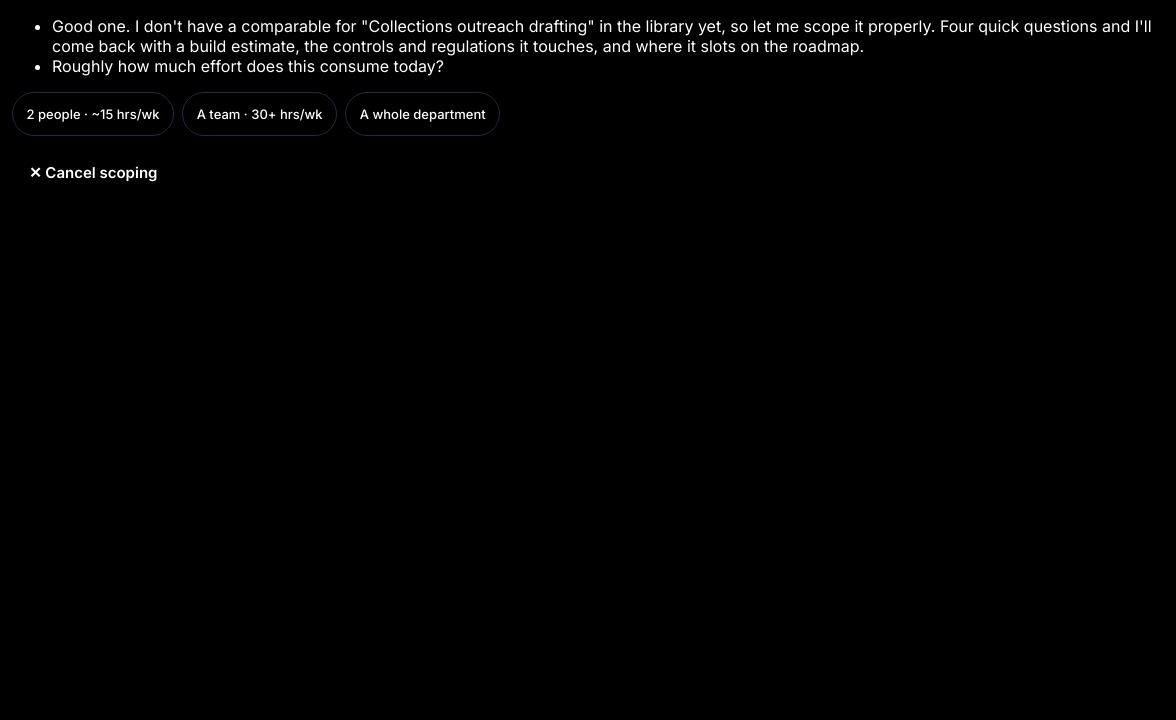
wizard full flow — 4 questions in base INTAKE order (base 4357-4368, 4434-4444) › review panel: Placement row (base 4394), display-name domains (base DOMMAP/domainsFor 4299-4300, never CTRLDOM slugs) — STU-02/STU-07
Step 1. Click the button "A whole department" → coordinates (423, 114), box [345,92,500,136]
Wait 700 ms
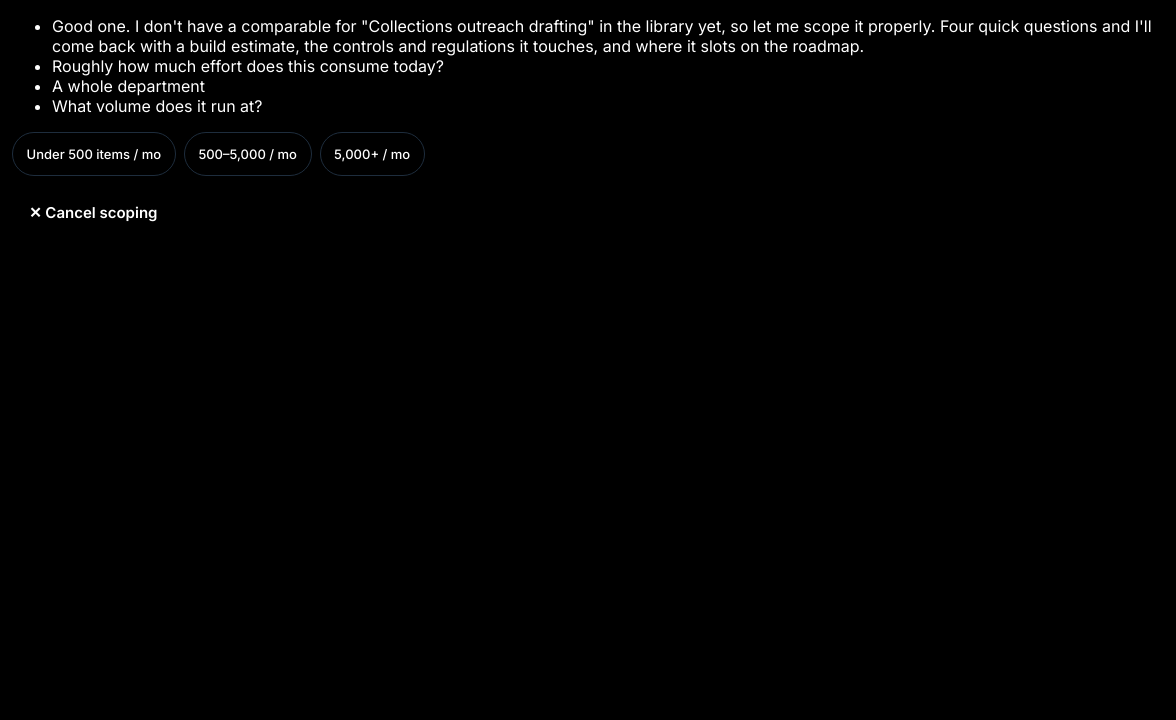
Step 2. Click the button "5,000+ / mo" → coordinates (372, 154), box [320,132,425,176]
Wait 700 ms
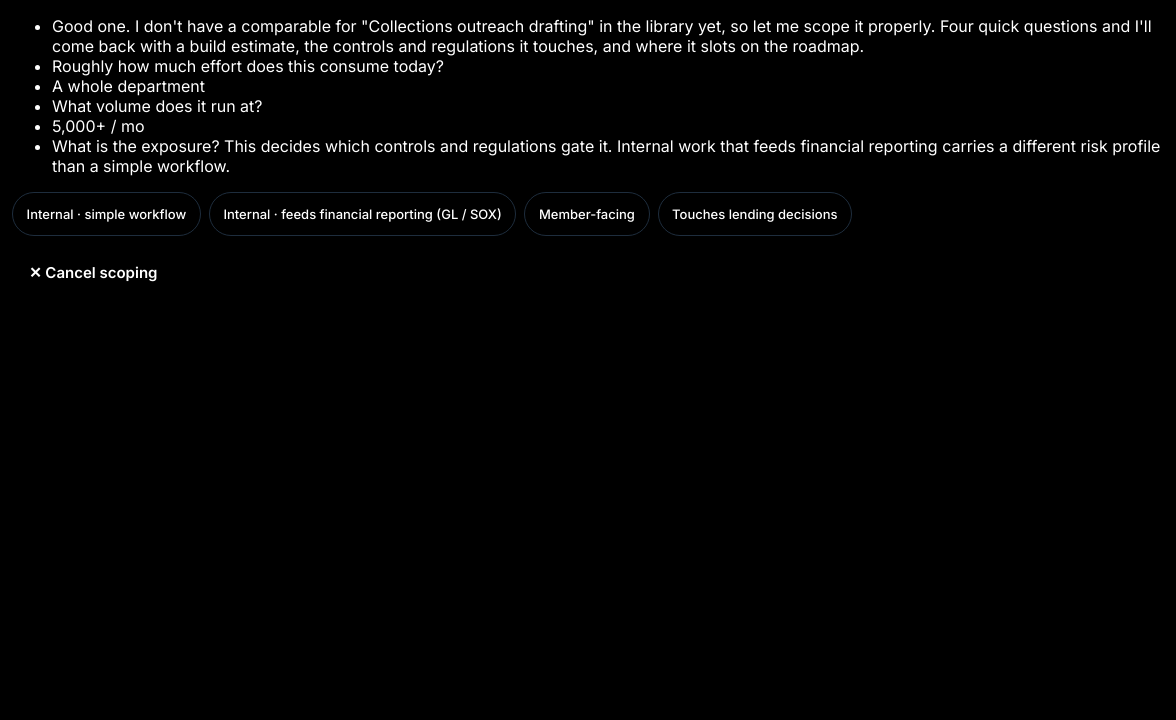
Step 3. Click the button "Touches lending decisions" → coordinates (755, 214), box [658,192,852,236]
Wait 700 ms
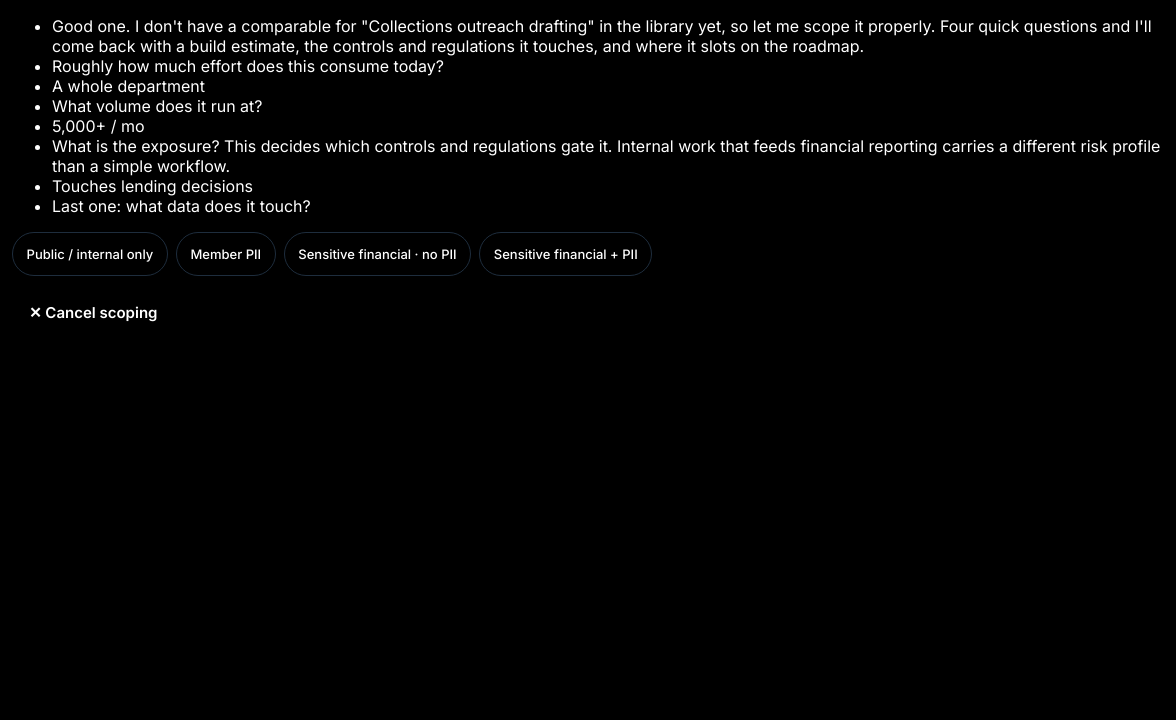
Step 4. Click the button "Sensitive financial + PII" → coordinates (566, 254), box [479,232,652,276]
Wait 700 ms
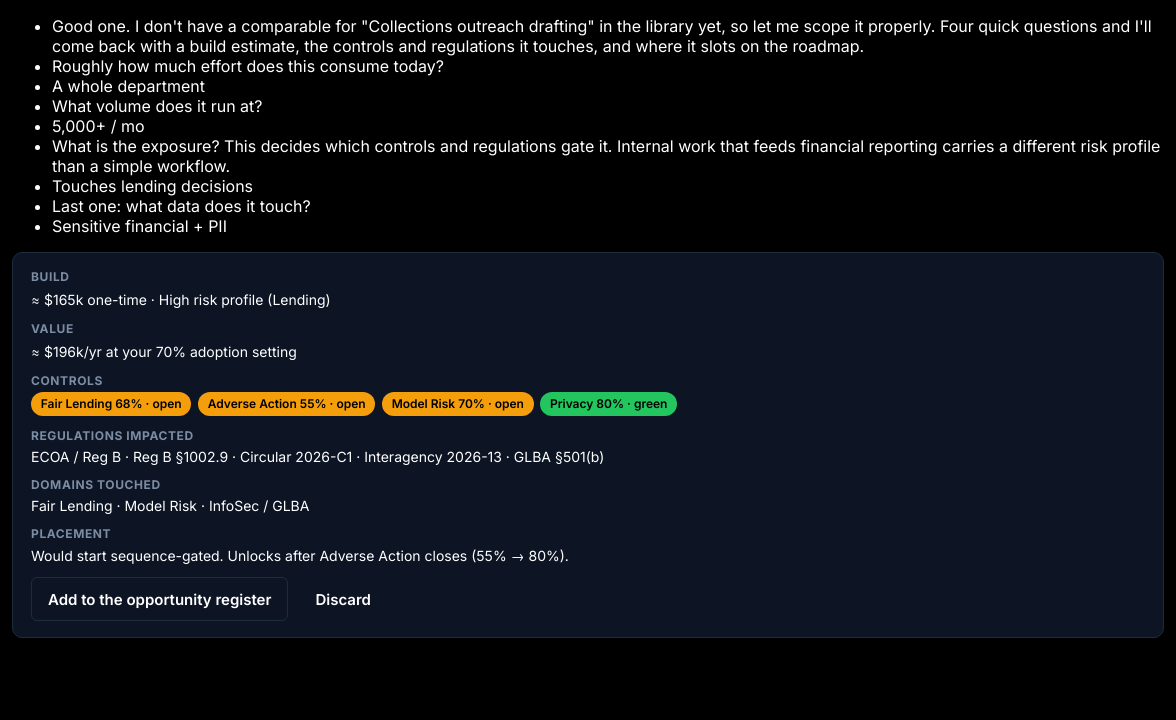
Check: the element named "Scoping result" shows "Would start sequence-gated. Unlocks after Adverse Action closes (55% → 80%).", box [31,547,569,564]
Check: the element named "Scoping result" shows "Fair Lending · Model Risk · InfoSec / GLBA", box [31,497,309,514]
